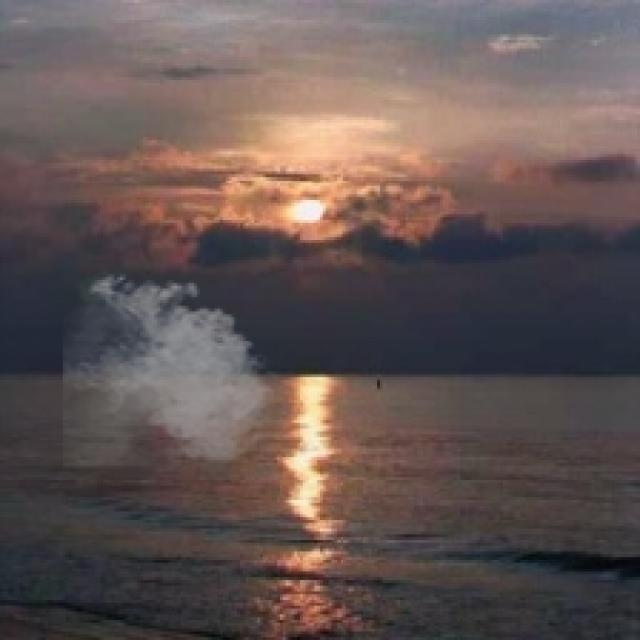Smoke: (63, 268, 283, 468)
